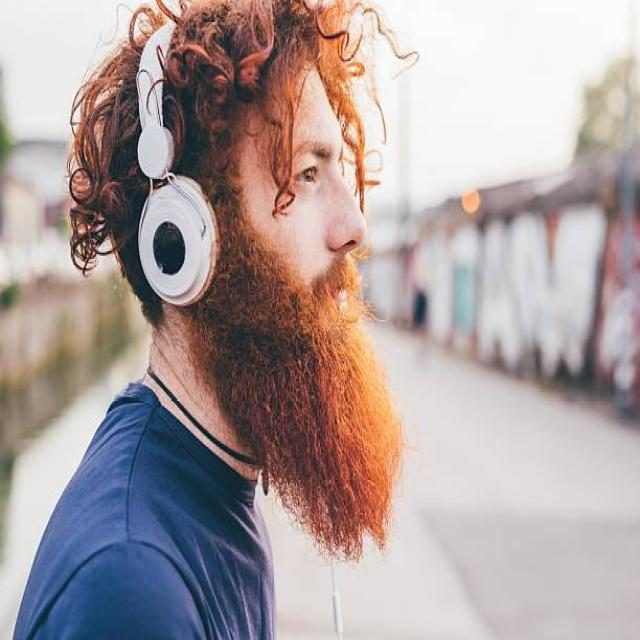Headphone: (135, 23, 221, 310)
